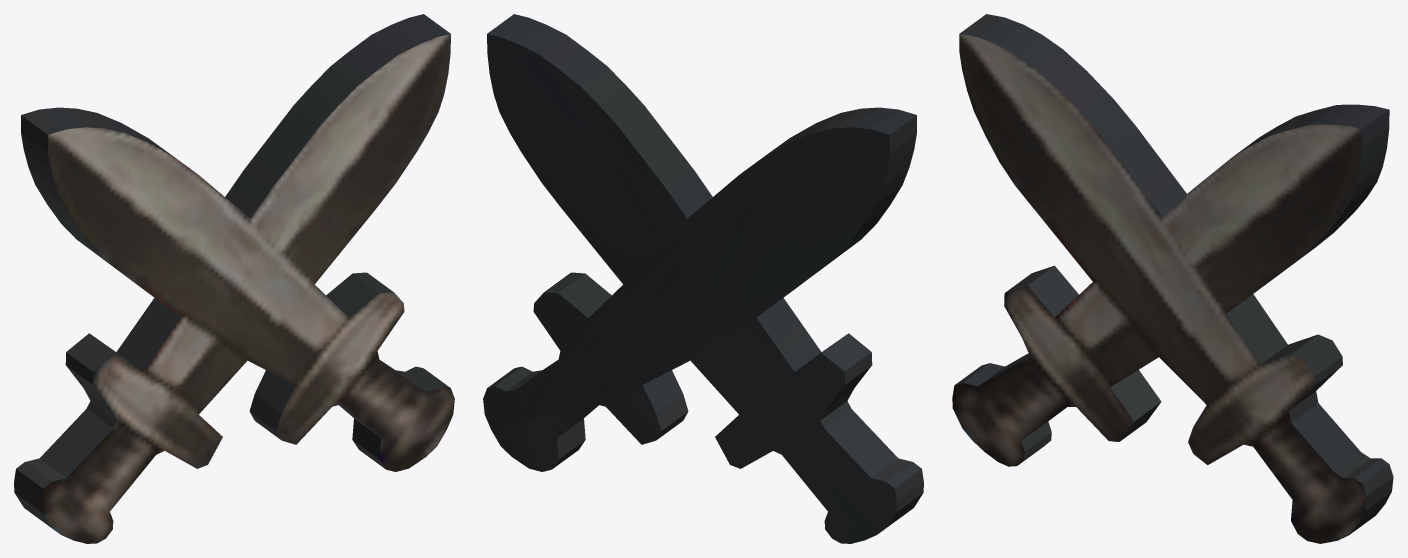
File: Attack_Played.glb
The picture shows the model from 3 angles, left to right: view 1: azimuth 30°, elevation 25°; view 2: azimuth 150°, elevation 25°; view 3: azimuth 330°, elevation 25°; orthographic projection.
Visible parts, largest first — view 1: Circle; view 2: Circle; view 3: Circle.
Boxes of the visible parts, x1,y1,x2,y2 form: Circle: [14, 14, 454, 543]; Circle: [483, 14, 923, 543]; Circle: [952, 14, 1393, 543].
Size of the model in its own units: 1.41 by 1.38 by 0.16.
Materials: 1 (1 with a texture image).
